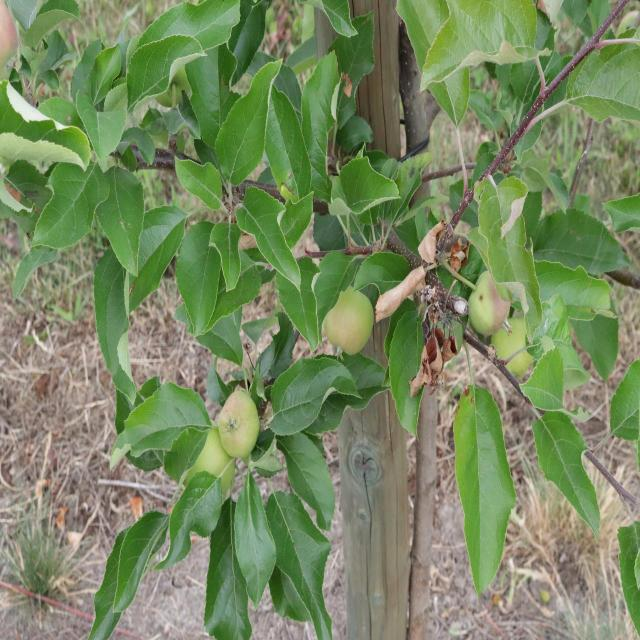-FireBlight-: (359, 215, 472, 390)
